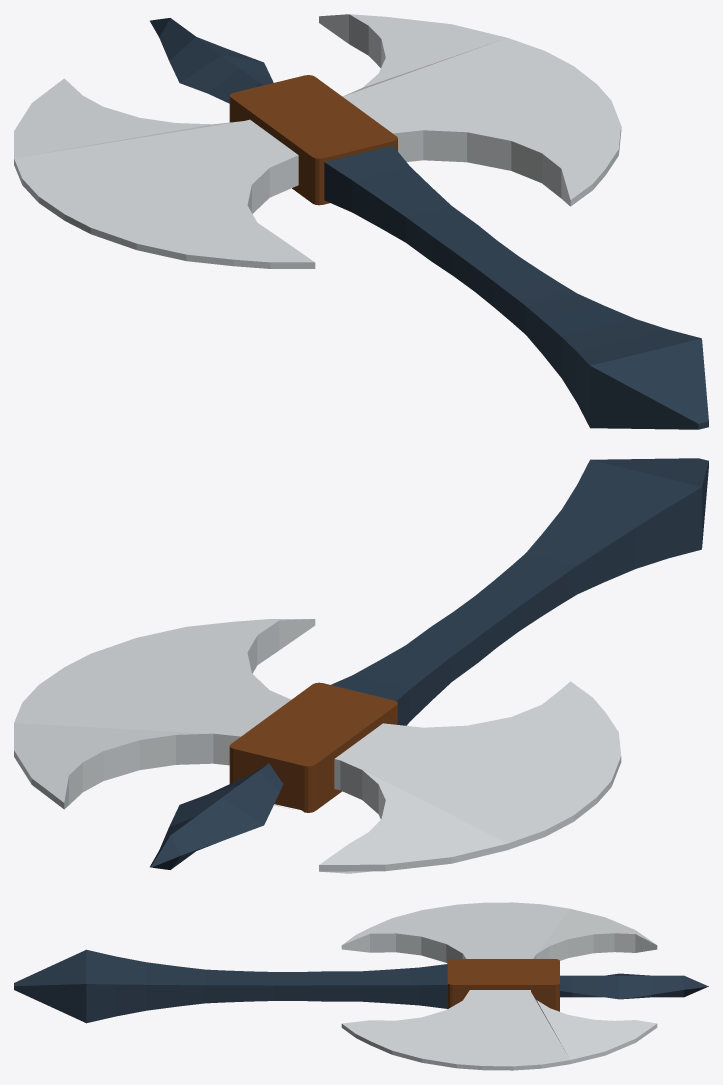
File: Axe.fbx
3 renders of one model, top to bottom at view 1: azimuth 30°, elevation 25°; view 2: azimuth 150°, elevation 25°; view 3: azimuth 270°, elevation 25°, orthographic. The views are drawn at different scales.
Parts seen in each view (by area): view 1: Axe; view 2: Axe; view 3: Axe.
Part boxes in pixels (box(x1,y1,x2,y2)): Axe: box(14, 14, 708, 429); Axe: box(14, 458, 708, 873); Axe: box(14, 902, 708, 1070).
Bounding box in the file's own units: 0.6301 × 1.13 × 0.0704.
